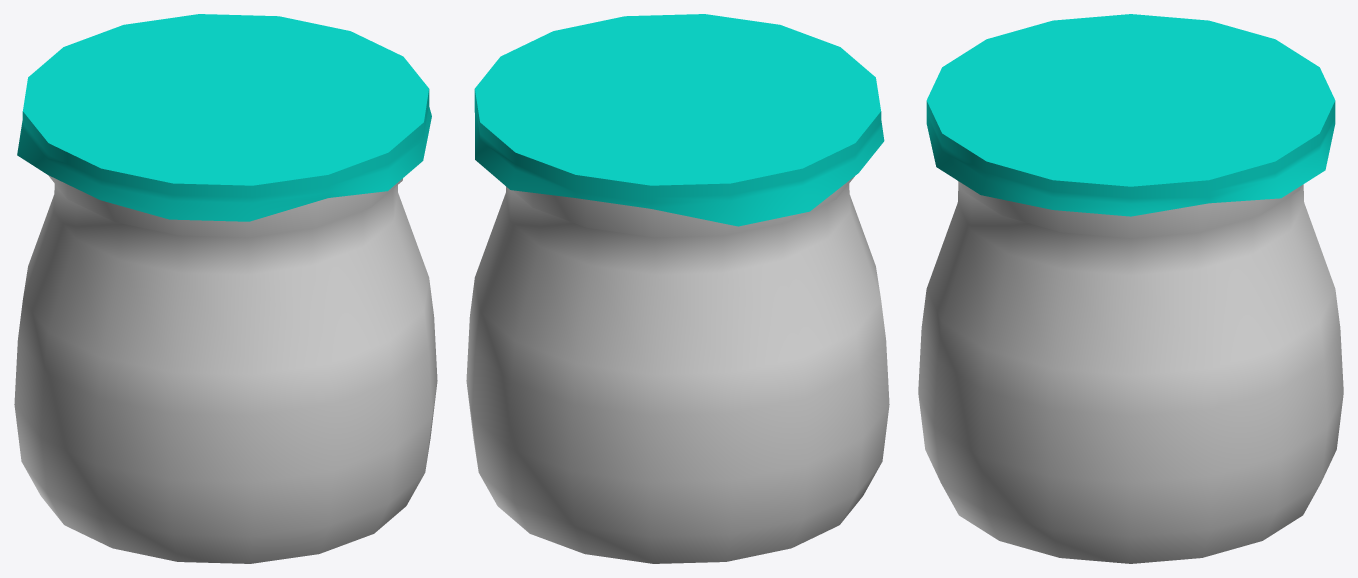
File: Yogurt.fbx
The picture shows the model from 3 angles, left to right: view 1: azimuth 30°, elevation 25°; view 2: azimuth 150°, elevation 25°; view 3: azimuth 270°, elevation 25°; orthographic projection.
Visible parts, largest first — view 1: pCylinder4; view 2: pCylinder4; view 3: pCylinder4.
Part boxes in pixels (box(x1,y1,x2,y2)): pCylinder4: box(14, 14, 437, 563); pCylinder4: box(466, 14, 889, 563); pCylinder4: box(918, 14, 1343, 563).
Size of the model in its own units: 83.29 by 83.11 by 83.29.
